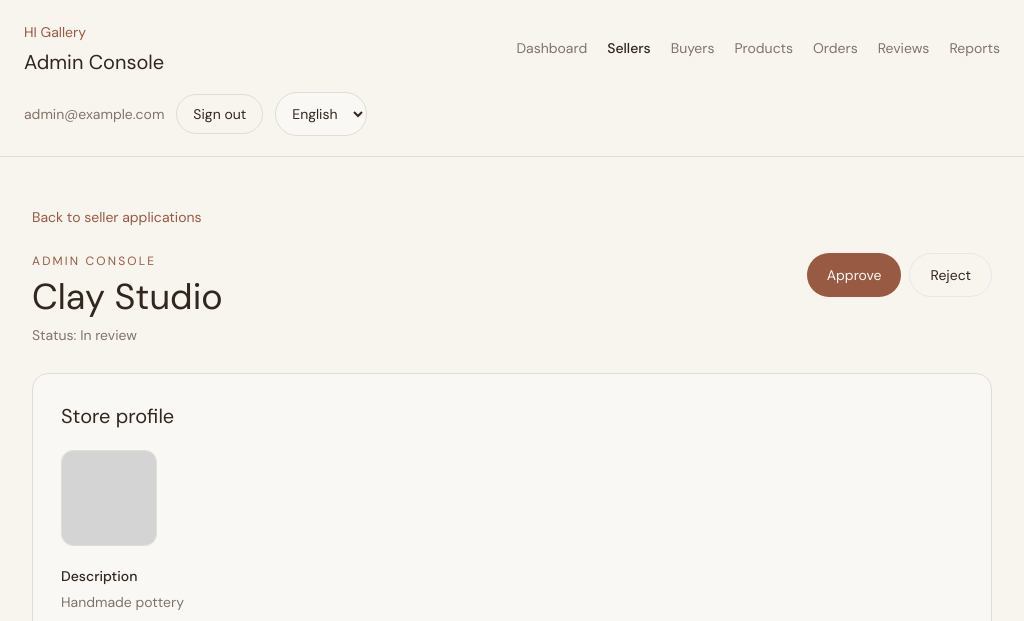
Scenario: admin seller review › refreshes authoritative details and explains a stale decision conflict
Click the button "Approve": [854, 275] box left=807, top=253, right=902, bottom=297
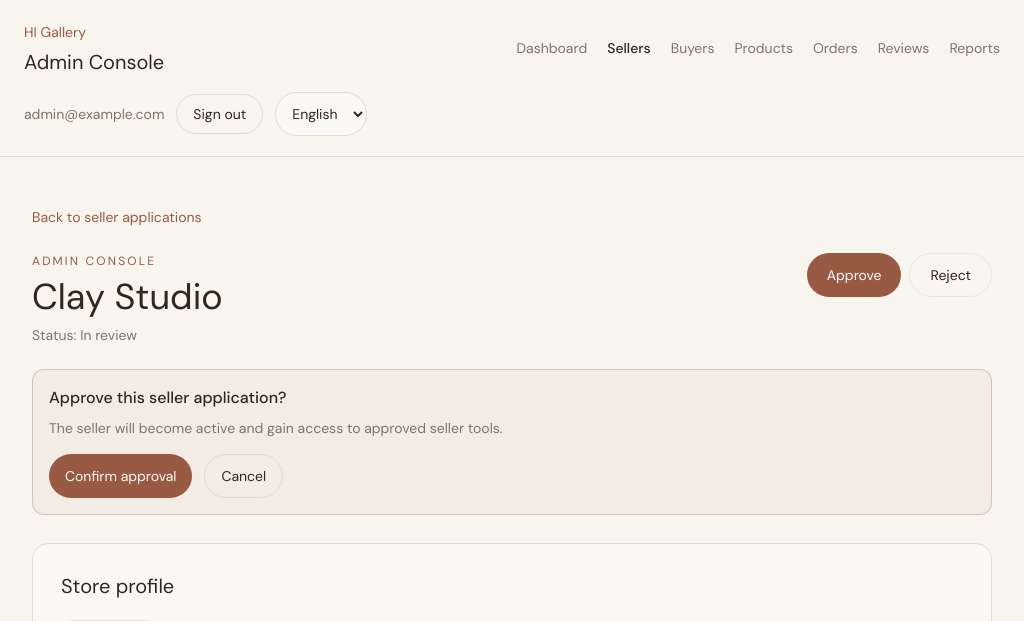
Click the button "Confirm approval": [121, 476] box left=49, top=454, right=192, bottom=498
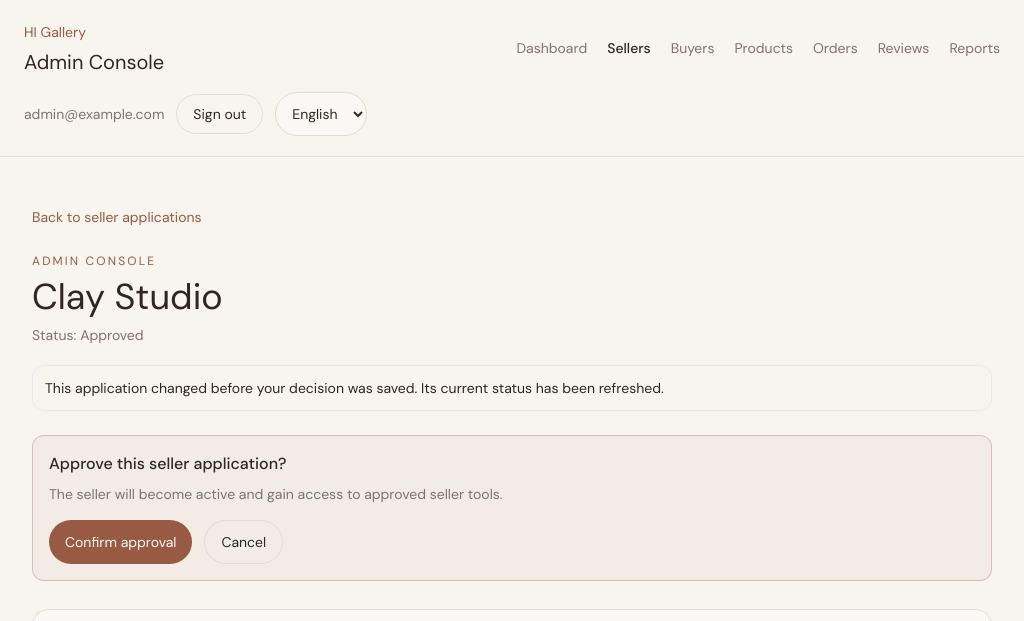
Expected: the message shows "This application changed before your decision was saved.", left=45, top=379, right=664, bottom=397
Expected: the text "Status: Approved" is shown, left=32, top=326, right=144, bottom=344
